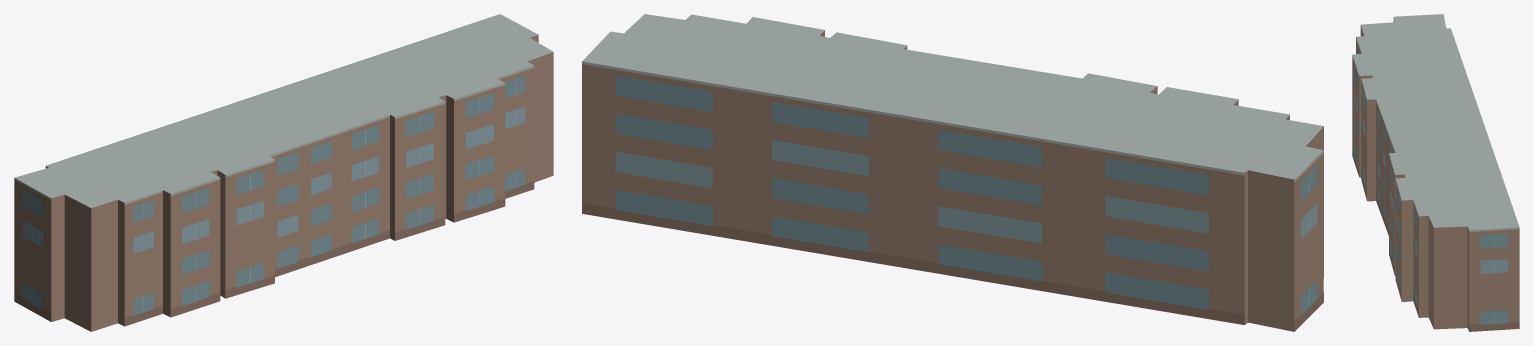
Rendered from survey-upis-32838039.glb.
The picture shows the model from 3 angles, left to right: view 1: azimuth 30°, elevation 25°; view 2: azimuth 150°, elevation 25°; view 3: azimuth 270°, elevation 25°; orthographic projection. The views are drawn at different scales.
Visible parts, largest first — view 1: survey-upis-32838039.tmp; view 2: survey-upis-32838039.tmp; view 3: survey-upis-32838039.tmp.
Part boxes in pixels (x1,y1,x2,y2): survey-upis-32838039.tmp: (14,14,553,331); survey-upis-32838039.tmp: (582,14,1323,331); survey-upis-32838039.tmp: (1352,14,1519,331).
Bounding box in the file's own units: 63.26 × 13.85 × 20.69.
